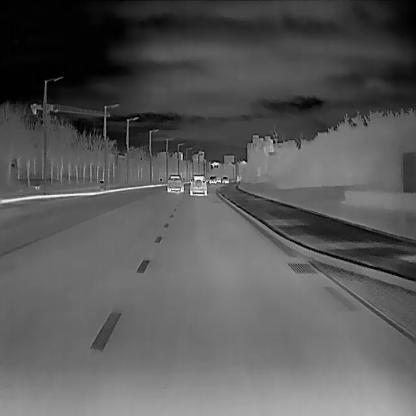car: (189, 173, 207, 196), (166, 174, 184, 192), (209, 175, 217, 184), (222, 175, 228, 183), (216, 177, 220, 183)
